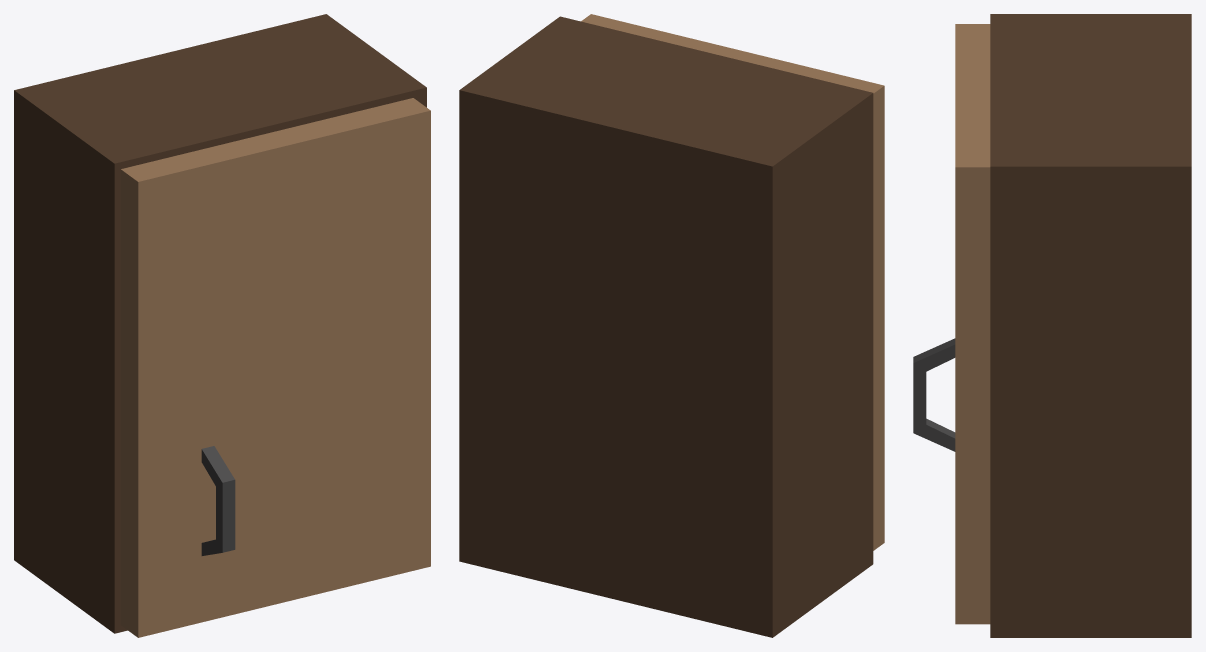
Rendered from Cupboard_2_2.fbx.
3 views of the same model, side by side, from view 1: azimuth 30°, elevation 25°; view 2: azimuth 150°, elevation 25°; view 3: azimuth 270°, elevation 25° (orthographic).
Visible parts, largest first — view 1: polySurface2229; view 2: polySurface2229; view 3: polySurface2229.
Boxes of the visible parts, x1,y1,x2,y2 form: polySurface2229: [14, 14, 430, 637]; polySurface2229: [459, 14, 884, 637]; polySurface2229: [913, 14, 1191, 637].
Size of the model in its own units: 0.6258 by 0.9 by 0.4813.
1 material, 1 textured.
